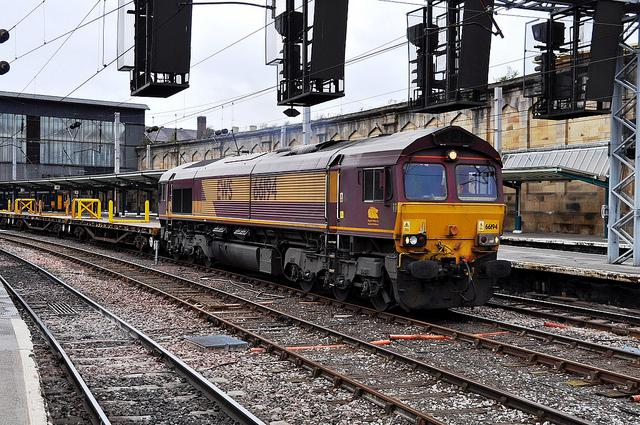Train: (2, 127, 510, 319)
